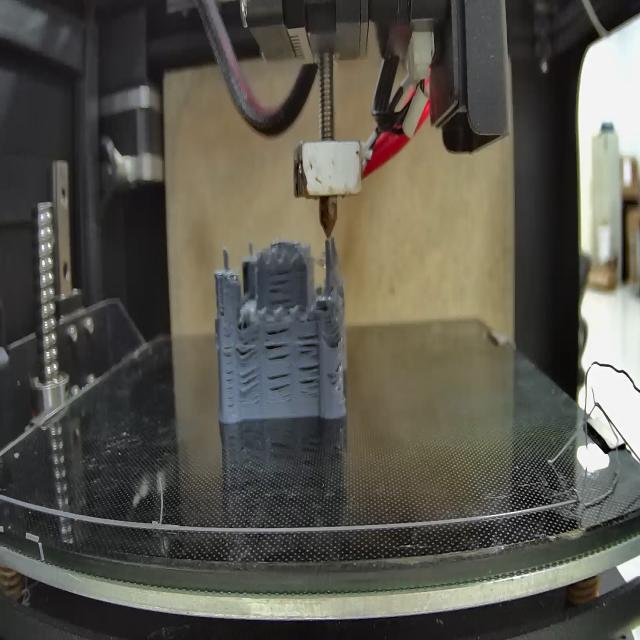cracks: (298, 330, 320, 398), (265, 261, 294, 305), (265, 325, 293, 361), (224, 332, 234, 412), (325, 356, 345, 391), (238, 367, 260, 396), (268, 372, 294, 396), (236, 334, 259, 360), (328, 325, 341, 345), (218, 302, 226, 319)
